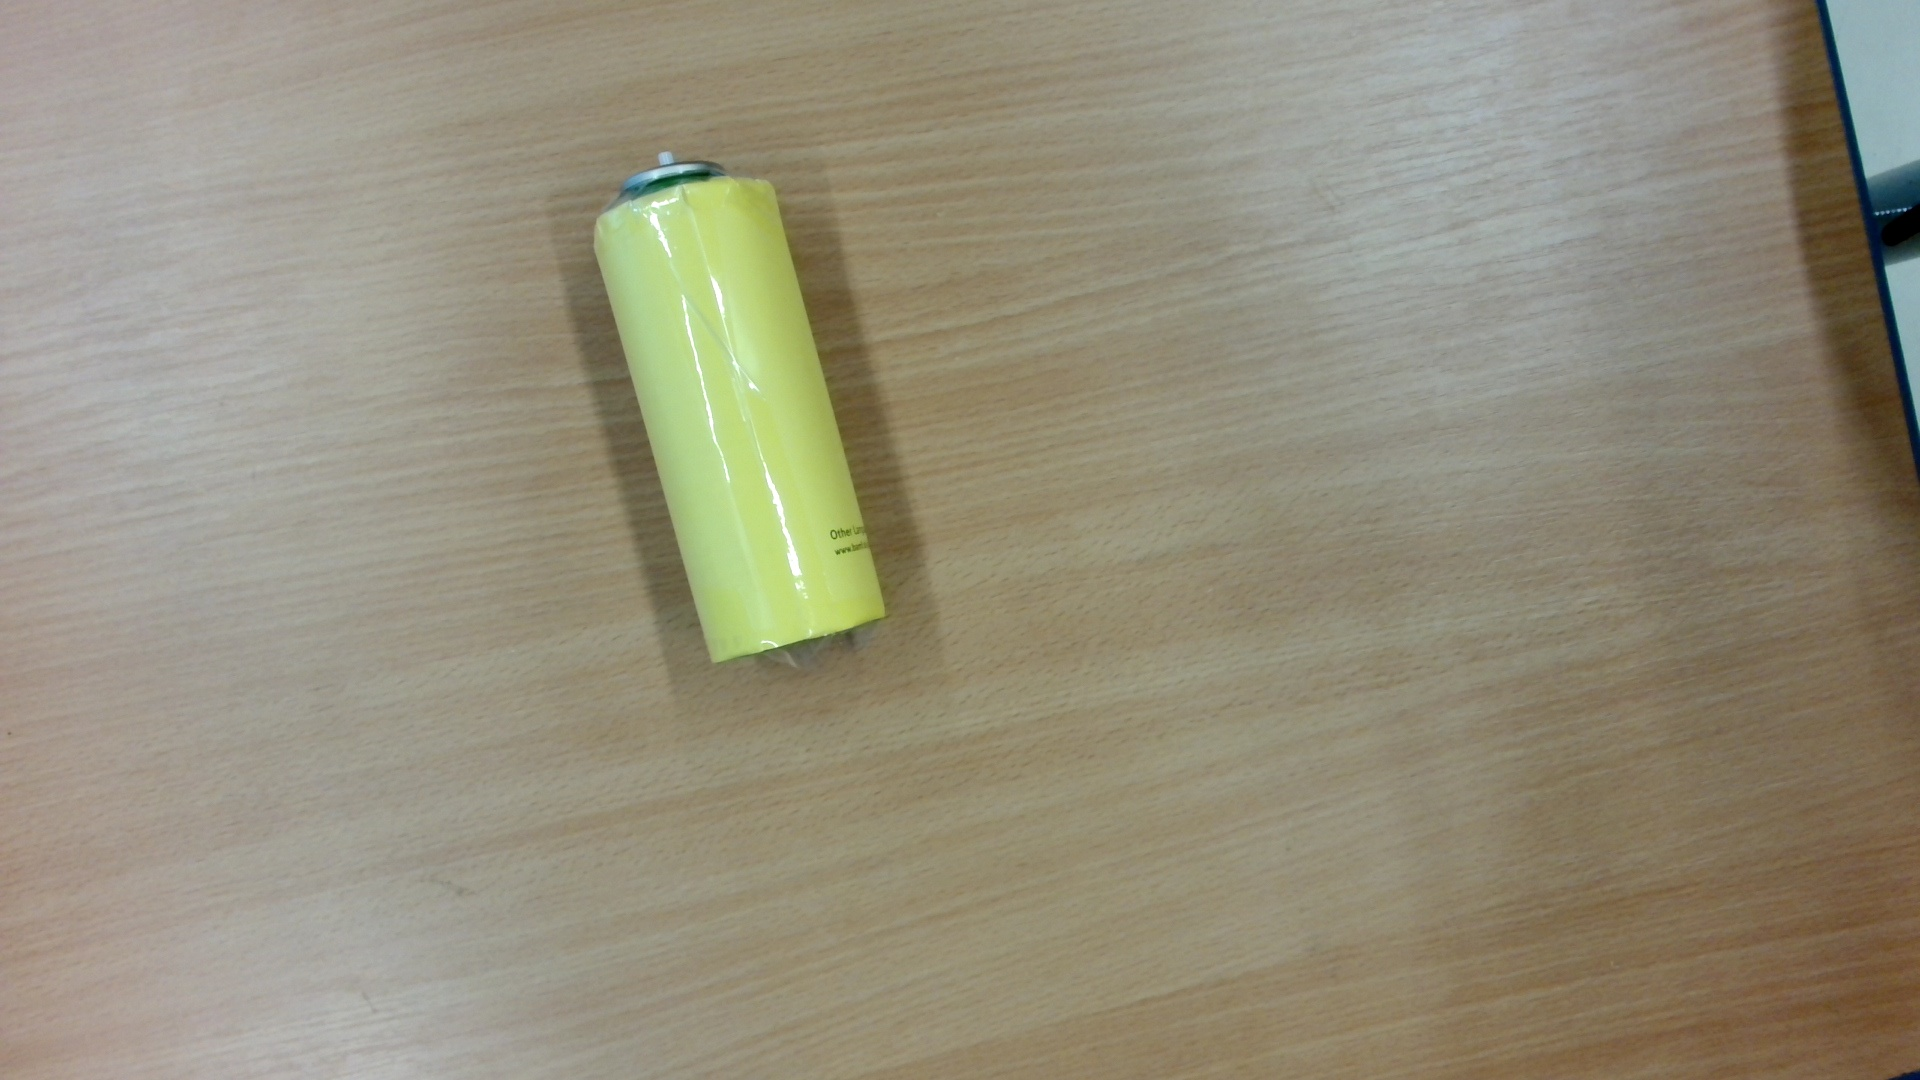Cylinder: (578, 142, 909, 673)
